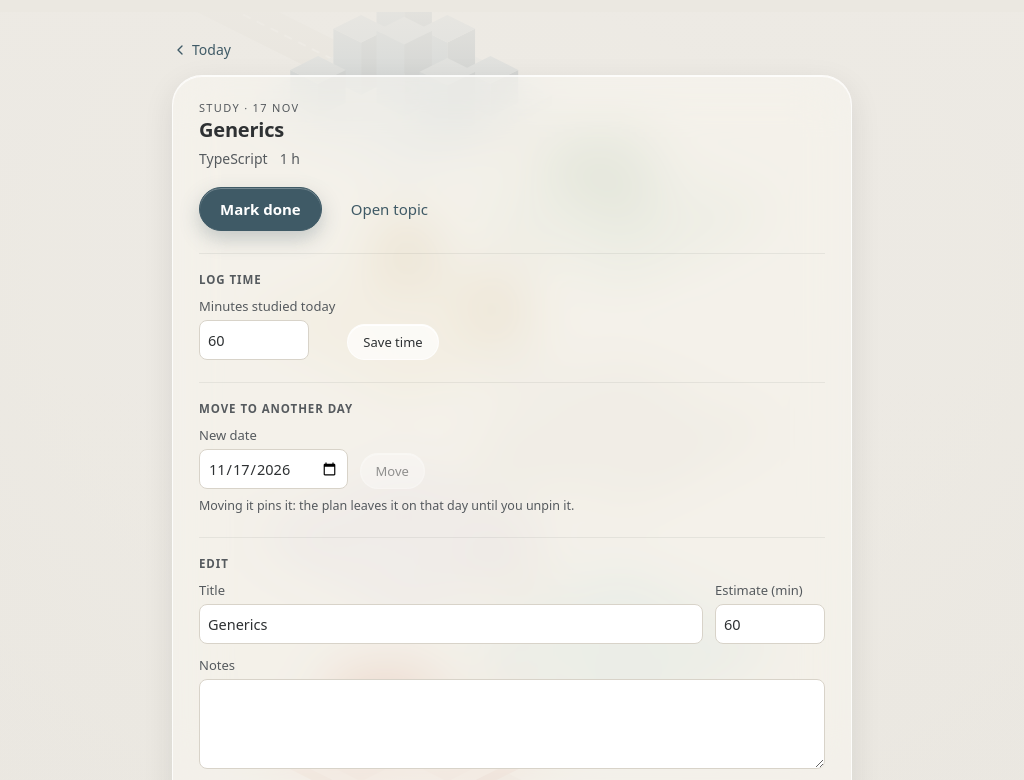
Scenario: a task's own page › marks a study task done as its one primary action, and has the rest below
Expected: the heading "Generics" is shown, [199,116,284,143]
Step 1. Click the button "Mark done" → [260, 209], box [199,187,322,231]
(page scrolled)
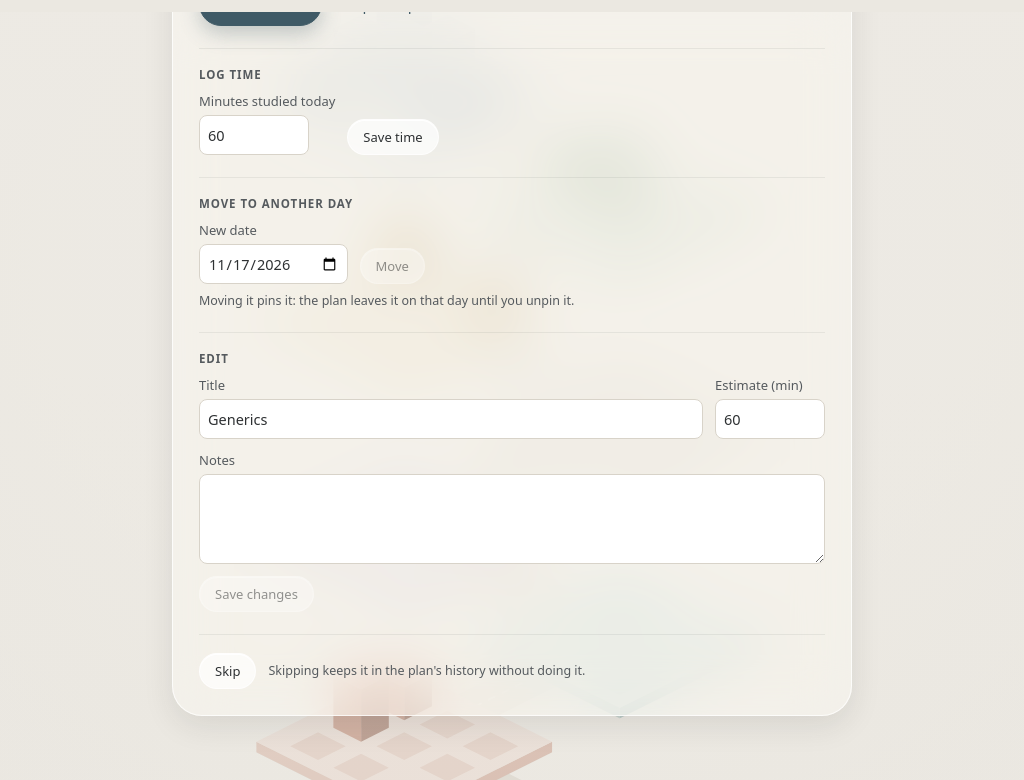
Expected: the heading "Log time" is shown, [199,67,262,82]
Expected: the button "Skip" is shown, [199,653,256,689]
